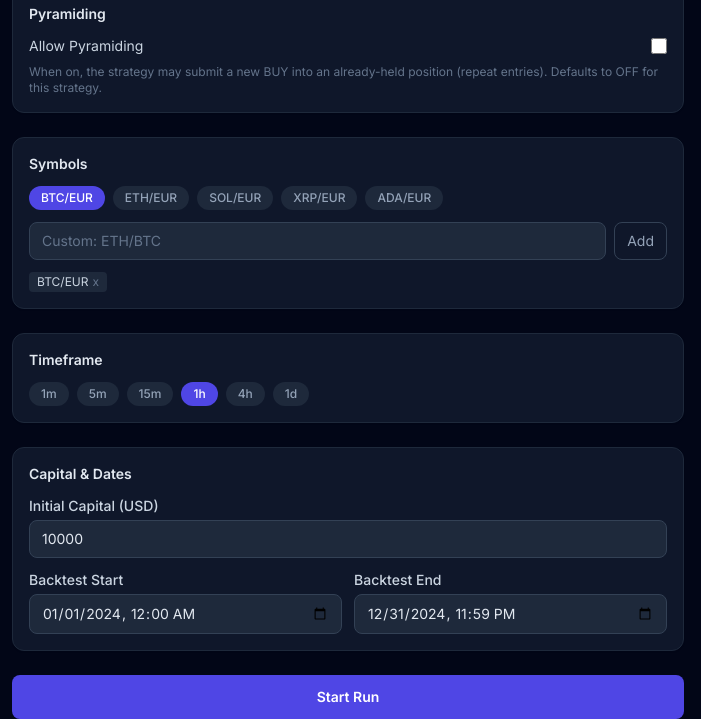
Test: NewRunPage — structured 422 rendering (CF-13a-1 item 2) › renders the exit_manager_required panel from a real {detail:{...}} envelope
This screenshot has width=701, height=719.
(page scrolled)
Click the button "Start Run". click: (348, 697)
box: [12,675,684,718]
(page scrolled)
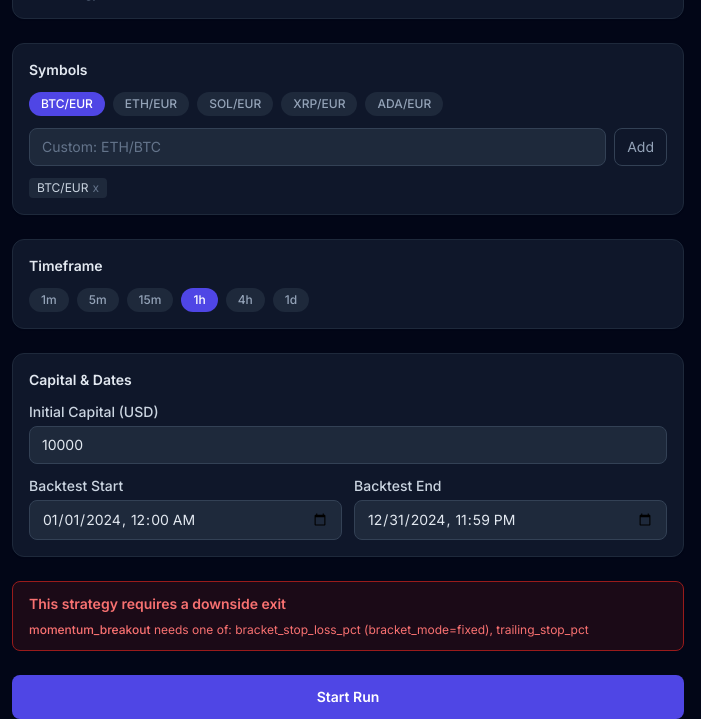
Now the text "This strategy requires a downside exit" is shown, box [29,595,286,612]
Now the text "trailing_stop_pct" is shown, box [235,622,589,637]
